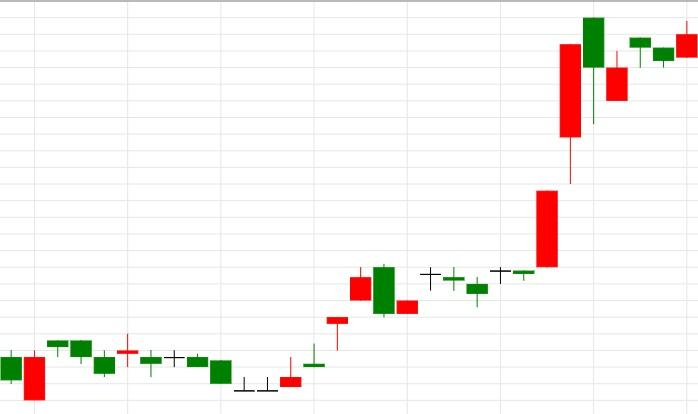bearish_engulfing_fall: (257, 264, 395, 393)
